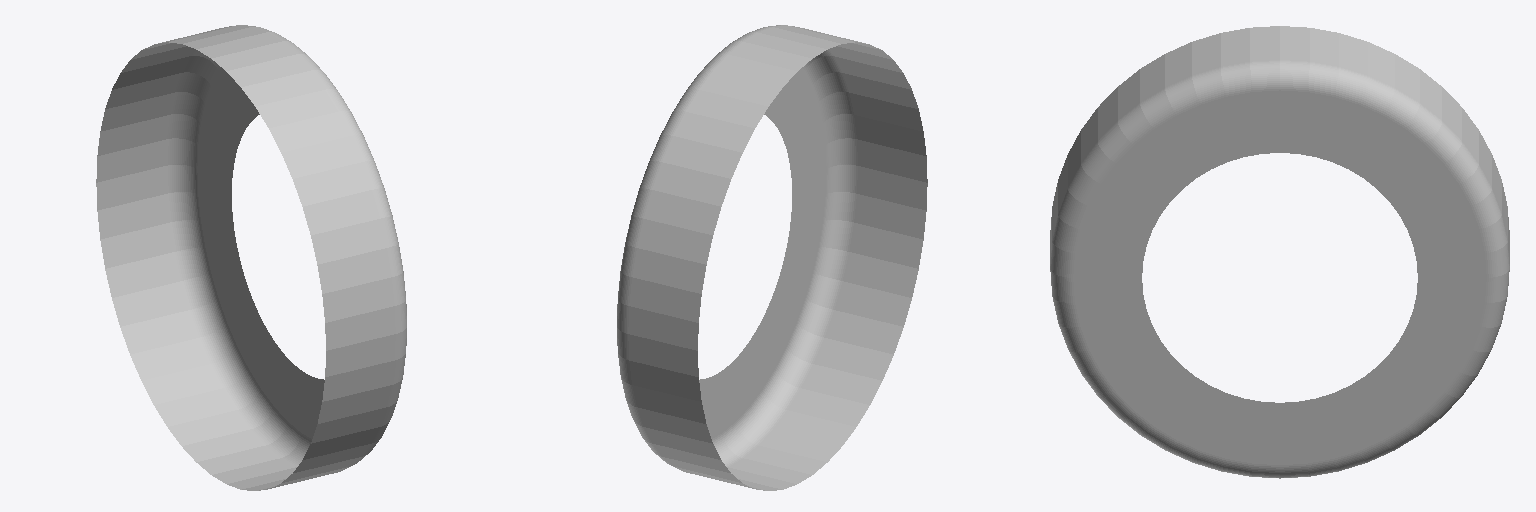
File: disks__18.obj
3 renders of one model, left to right at view 1: azimuth 30°, elevation 25°; view 2: azimuth 150°, elevation 25°; view 3: azimuth 270°, elevation 25°, orthographic.
Visible parts, largest first — view 1: grp18; view 2: grp18; view 3: grp18.
Boxes of the visible parts, x1,y1,x2,y2 form: grp18: [96, 25, 406, 490]; grp18: [617, 25, 927, 490]; grp18: [1050, 26, 1509, 478].
Size of the model in its own units: 1.12 by 5 by 5.